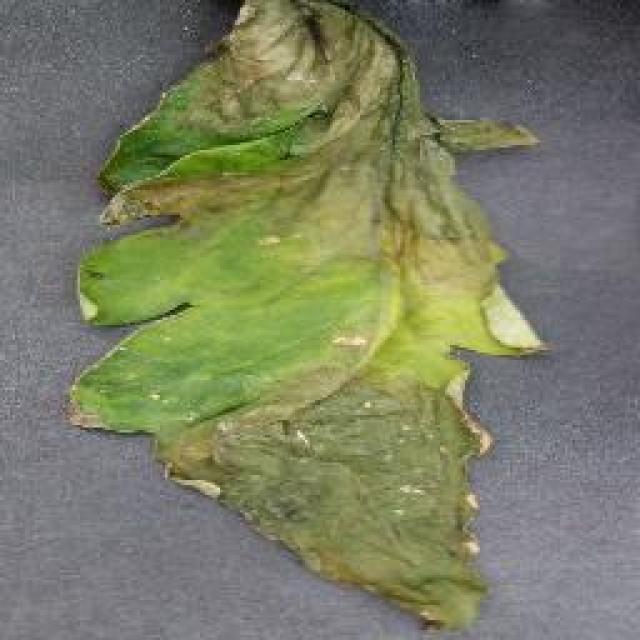Tomato Late Blight: (157, 23, 523, 637)
